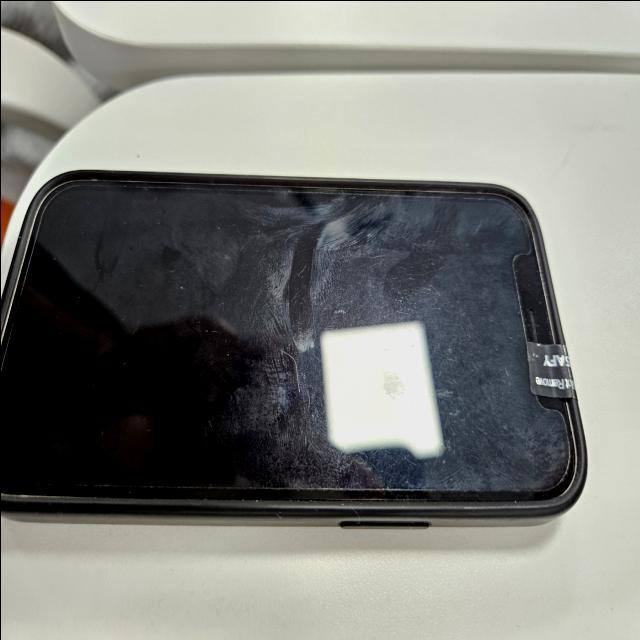phone: (0, 168, 589, 528)
sticker: (522, 339, 580, 402)
